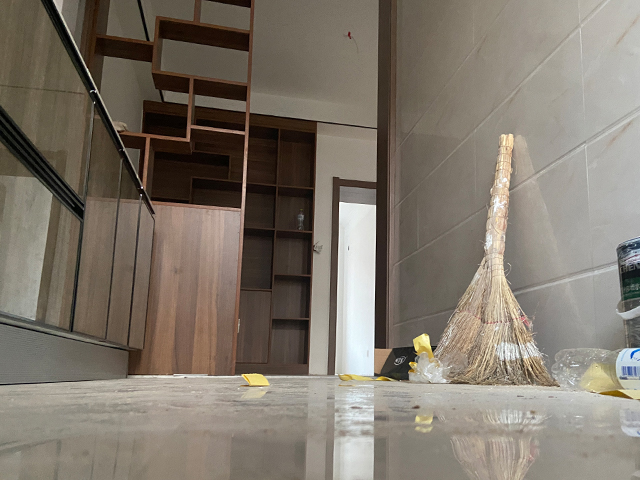cabinet: (1, 1, 158, 385), (147, 206, 309, 376)
